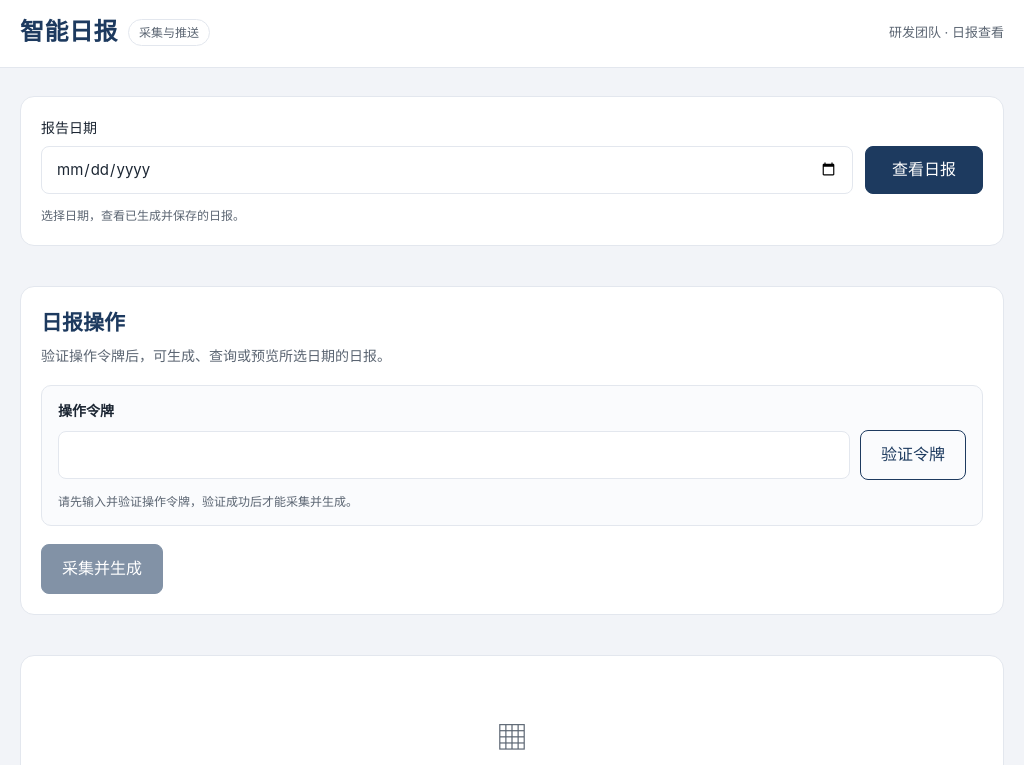
disabled_failure_and_zero_records_are_distinct
In the date field labelled "报告日期": (447, 170) [41,146,853,194], type "2026-09-25"
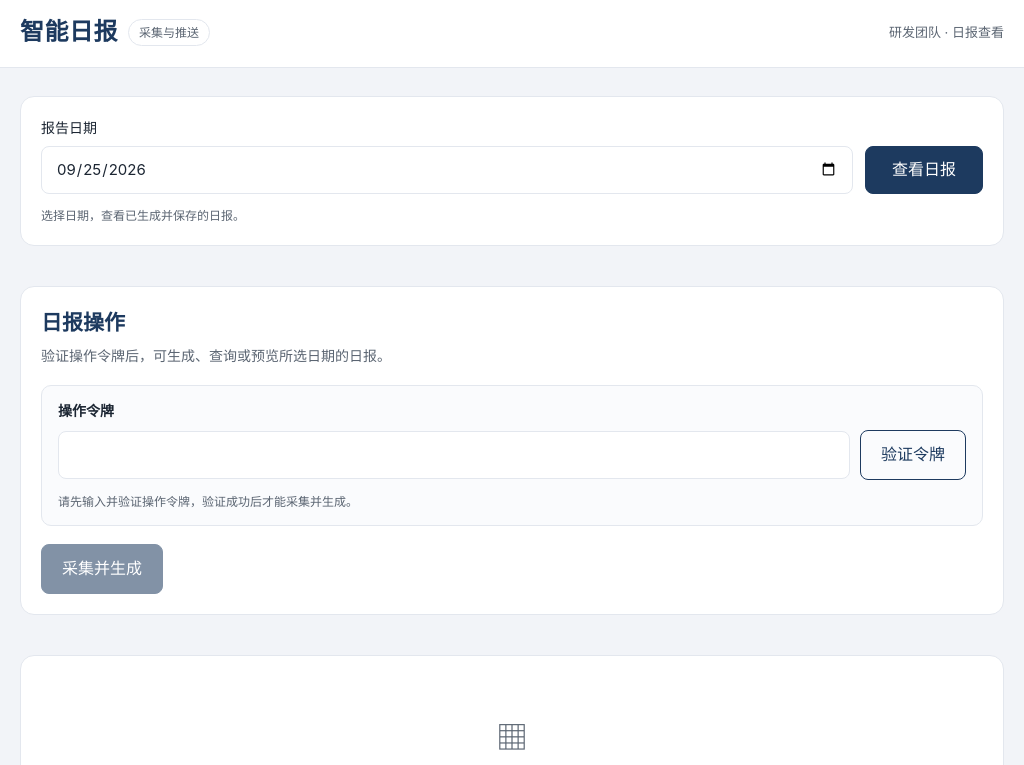
In the password field labelled "操作令牌": (454, 455) [58,431,850,479], type "private-token"
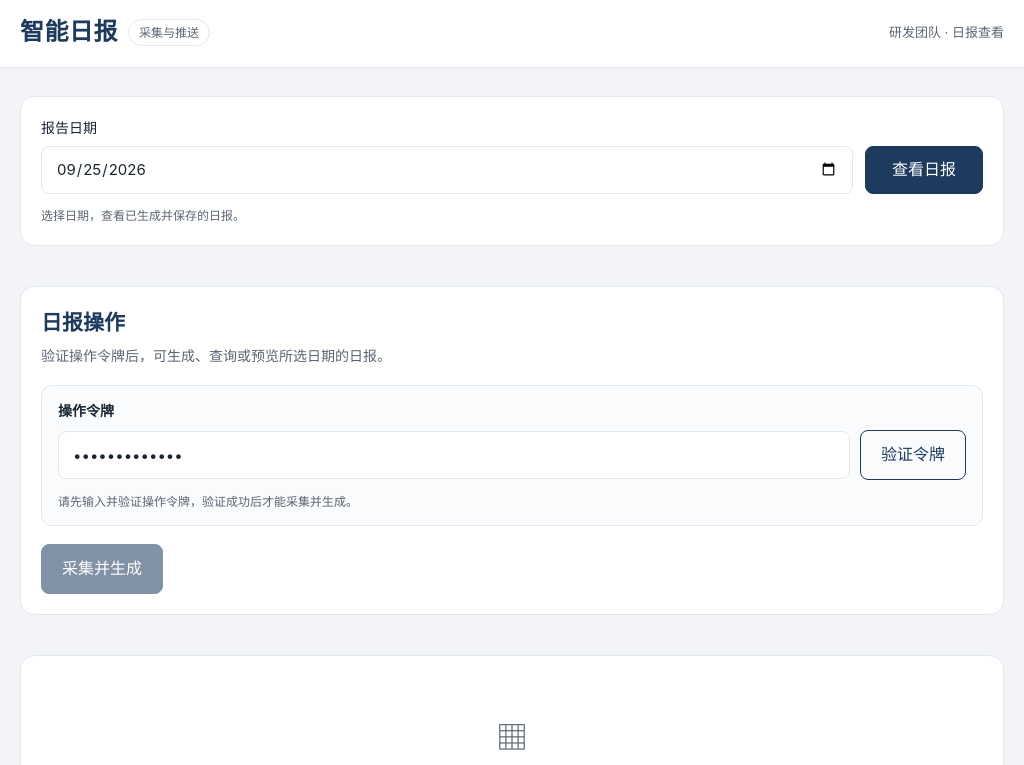
Click the button "验证令牌": (913, 455) [860,430,966,480]
(page scrolled)
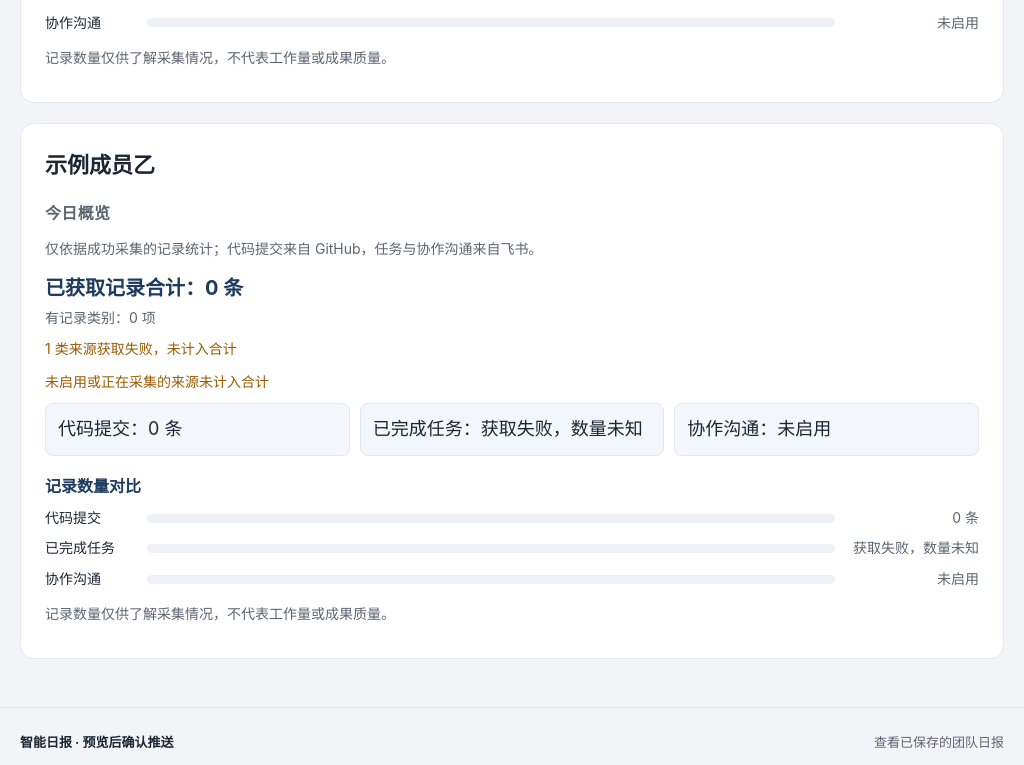
Expected: the list item "代码提交：0 条" is shown, [45,403,350,456]
Expected: the list item "协作沟通：未启用" is shown, [674,403,979,456]
Expected: the list item "已完成任务：获取失败，数量未知" is shown, [360,403,664,456]
